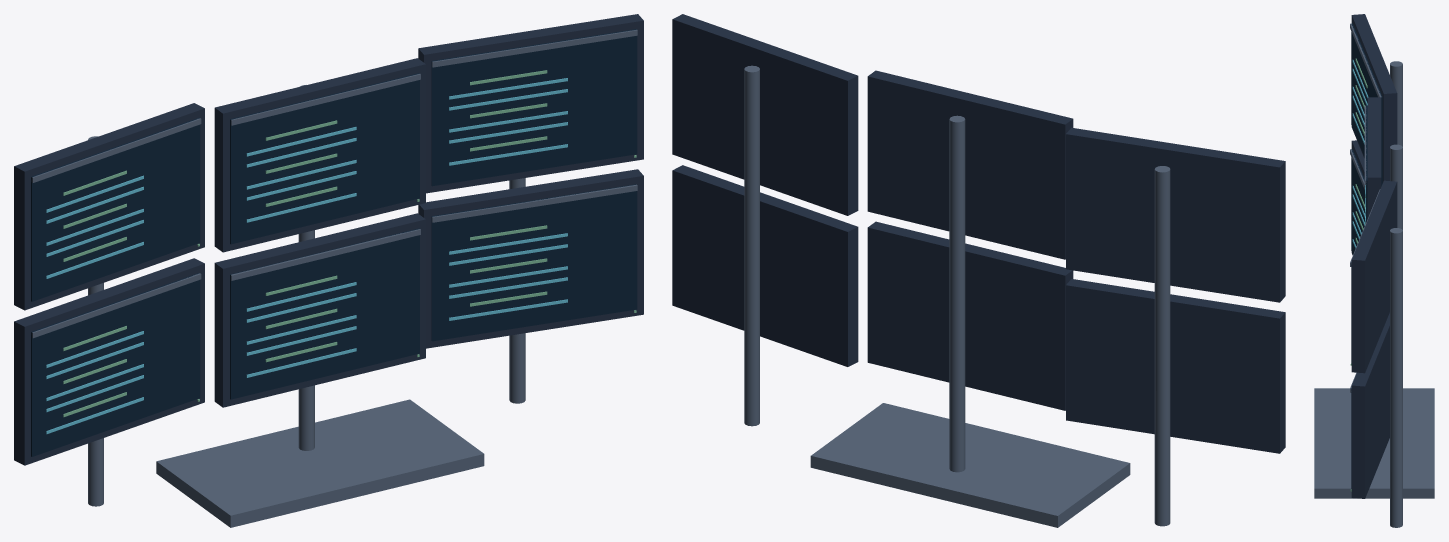
Rendered from officeMonitorWall.glb.
3 renders of one model, left to right at view 1: azimuth 30°, elevation 25°; view 2: azimuth 150°, elevation 25°; view 3: azimuth 270°, elevation 25°, orthographic. The views are drawn at different scales.
Bounding box in the file's own units: 1.6 × 0.94 × 0.33.
